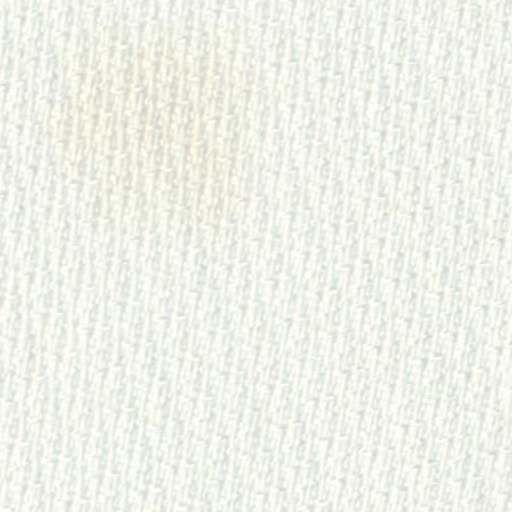WuZi: (32, 11, 269, 262)
